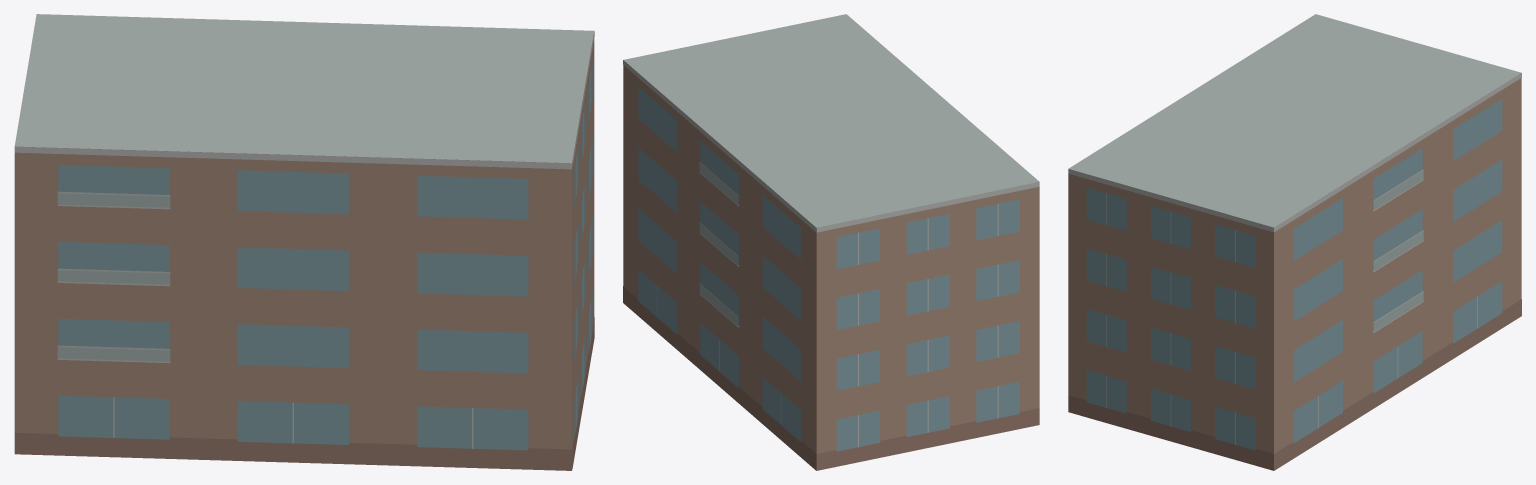
The model's file is residential-e584d2dd-1f29-4a2a-9a5e-eb0db3ba47b1.glb.
3 views of the same model, side by side, from view 1: azimuth 30°, elevation 25°; view 2: azimuth 150°, elevation 25°; view 3: azimuth 270°, elevation 25° (orthographic). The views are drawn at different scales.
Parts seen in each view (by area): view 1: residential-e584d2dd-1f29-4a2a-9a5e-eb0db3ba47b1.tmp; view 2: residential-e584d2dd-1f29-4a2a-9a5e-eb0db3ba47b1.tmp; view 3: residential-e584d2dd-1f29-4a2a-9a5e-eb0db3ba47b1.tmp.
Part boxes in pixels (x1,y1,x2,y2): residential-e584d2dd-1f29-4a2a-9a5e-eb0db3ba47b1.tmp: (14, 14, 594, 470); residential-e584d2dd-1f29-4a2a-9a5e-eb0db3ba47b1.tmp: (623, 14, 1039, 470); residential-e584d2dd-1f29-4a2a-9a5e-eb0db3ba47b1.tmp: (1068, 14, 1521, 470).
Size of the model in its own units: 22.97 by 12.2 by 20.62.
